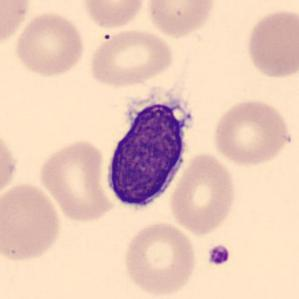Lymphocyte: (98, 87, 195, 215)
Platelets: (206, 243, 232, 267)
RBC: (36, 137, 115, 224), (168, 150, 238, 236), (121, 220, 199, 297), (210, 96, 293, 167), (86, 27, 177, 88), (0, 180, 64, 266), (12, 9, 87, 78), (243, 5, 298, 80), (145, 0, 218, 39), (79, 0, 148, 30), (0, 124, 20, 204), (0, 0, 32, 50)
